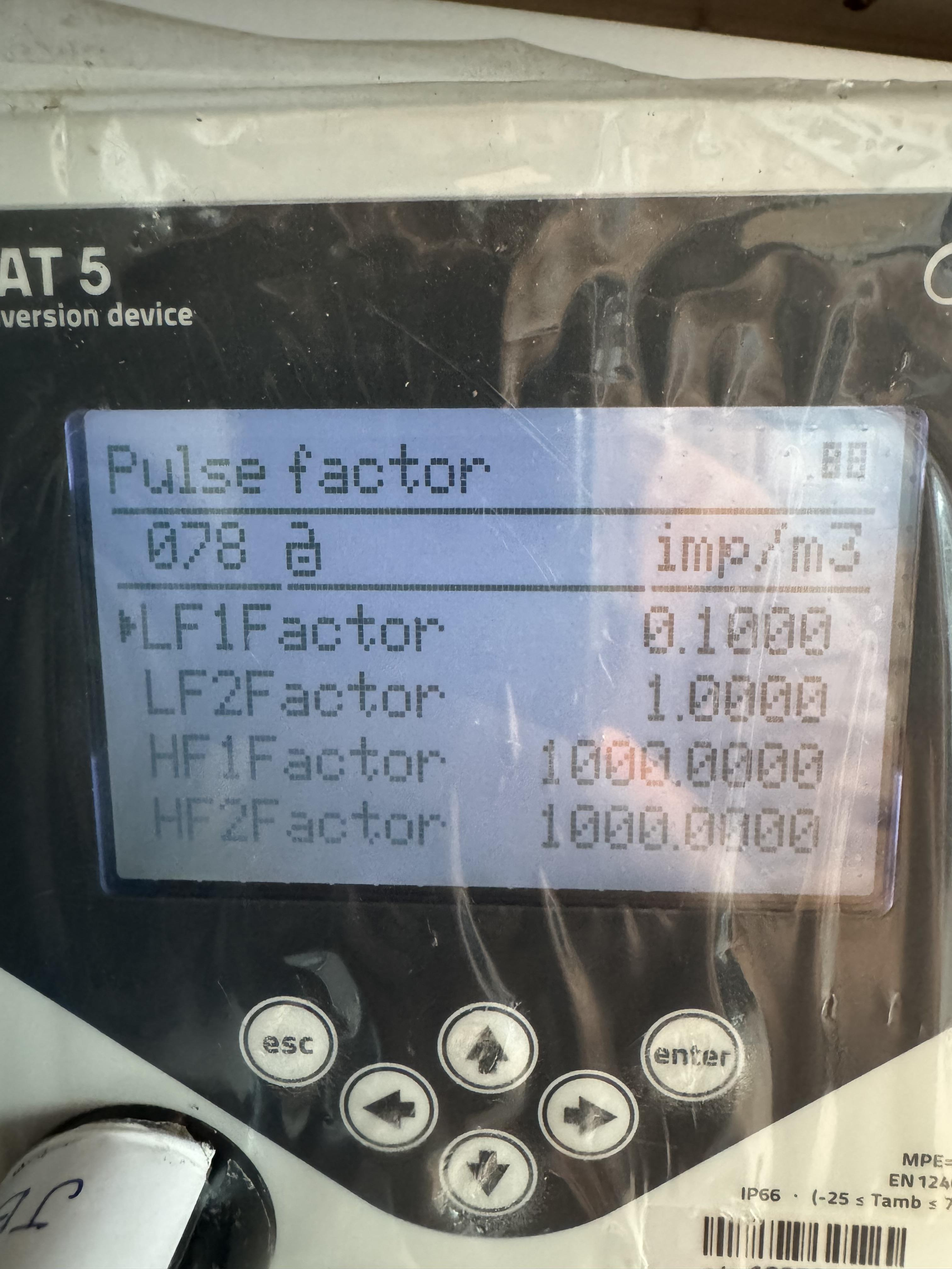digital_screen: (68, 412, 927, 918)
